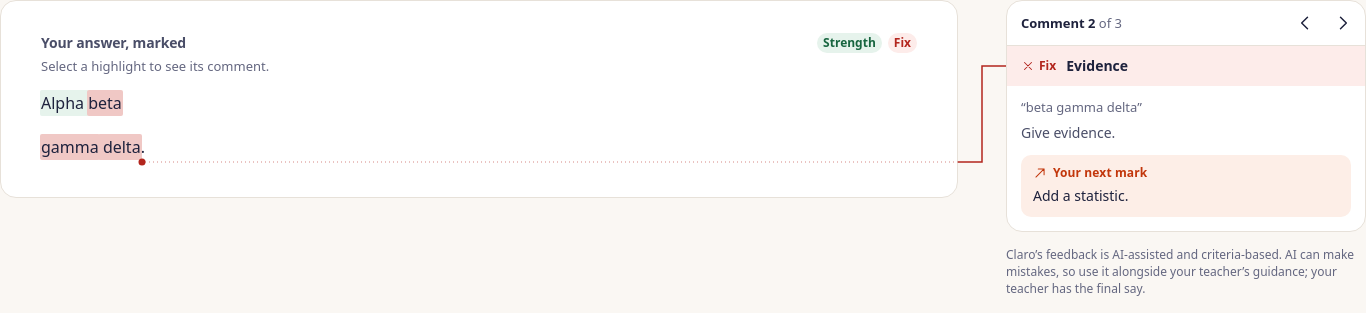
Test case: MarkedAnswerDoc › shows Overall for unanchored comments and the appropriate next-mark box for each fix
The image size is (1366, 313).
expect the text "Your next mark" is shown: met, box x1=1032 y1=164 x2=1147 y2=188
expect the text "Add a statistic." is shown: met, box x1=1033 y1=186 x2=1128 y2=205
Click the button named "Next comment".
click(1343, 23)  # box x1=1325 y1=5 x2=1361 y2=41
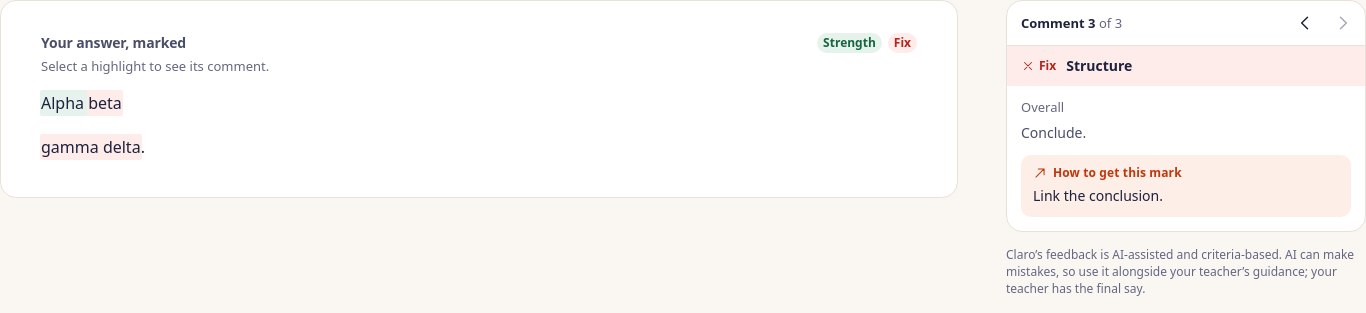
expect the text "Overall" is shown: met, box x1=1021 y1=98 x2=1064 y2=116
expect the text "How to get this mark" is shown: met, box x1=1032 y1=164 x2=1182 y2=188
expect the text "Link the conclusion." is shown: met, box x1=1033 y1=186 x2=1163 y2=205
